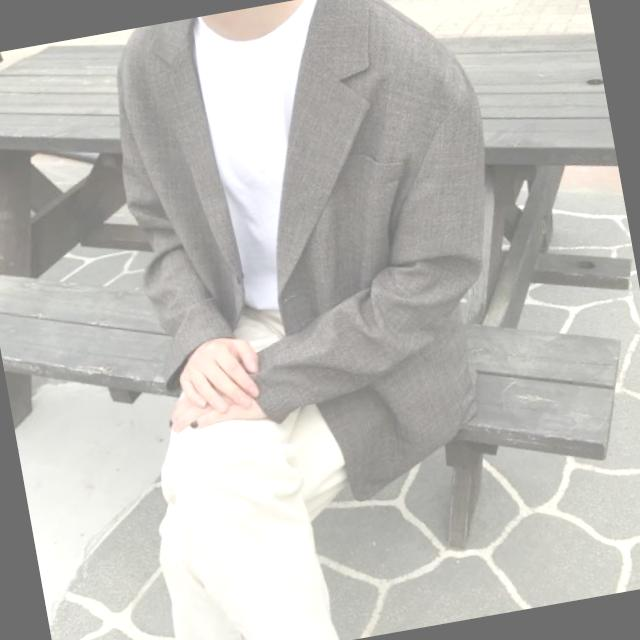blazer: (102, 0, 543, 532)
cottonpants: (117, 296, 376, 640)
